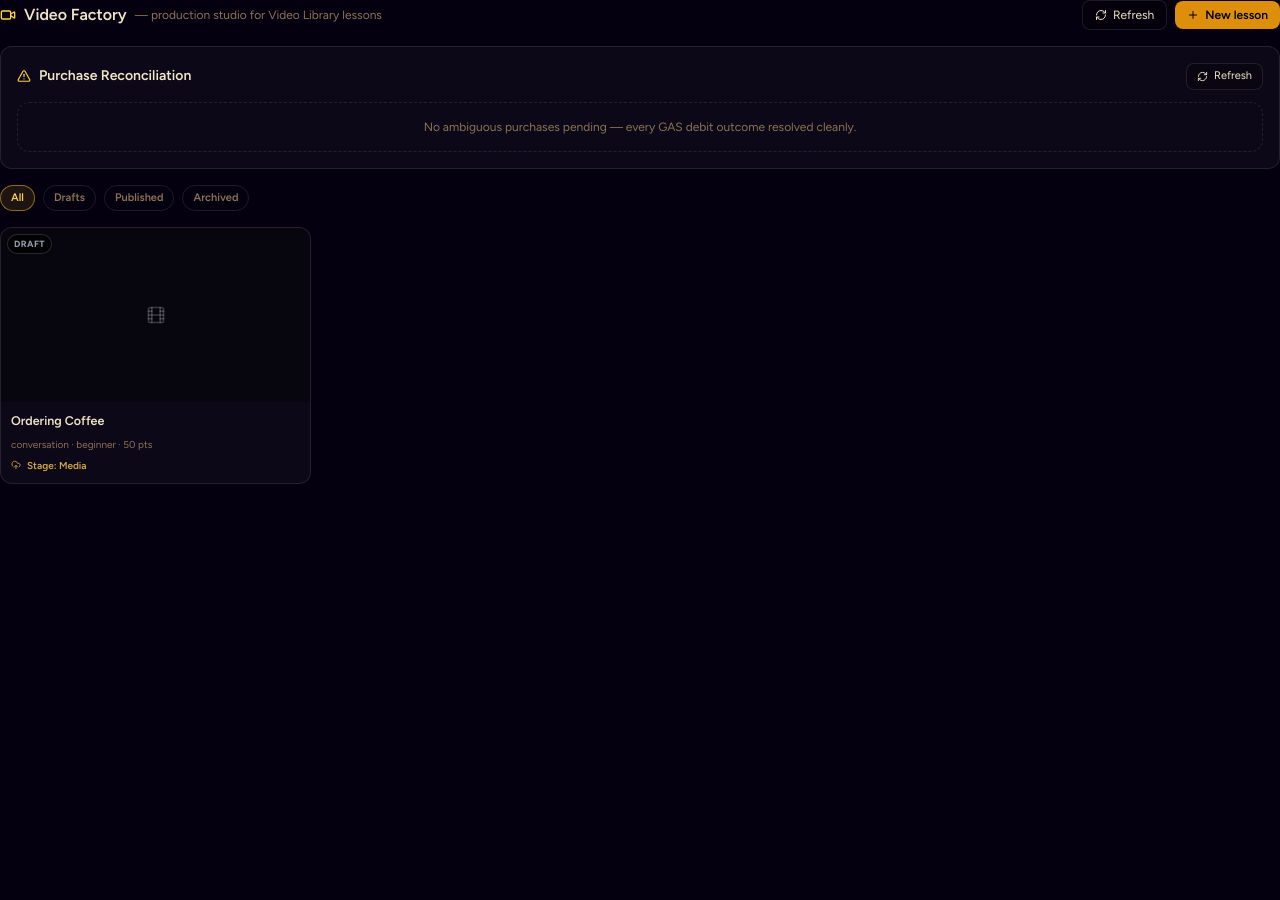
the Voice Production stage appears but shows an honest disabled state when visible but not enabled
Click the button with test id "video-factory-lesson-vid_1" at point(156, 355), box [0,227,311,484]
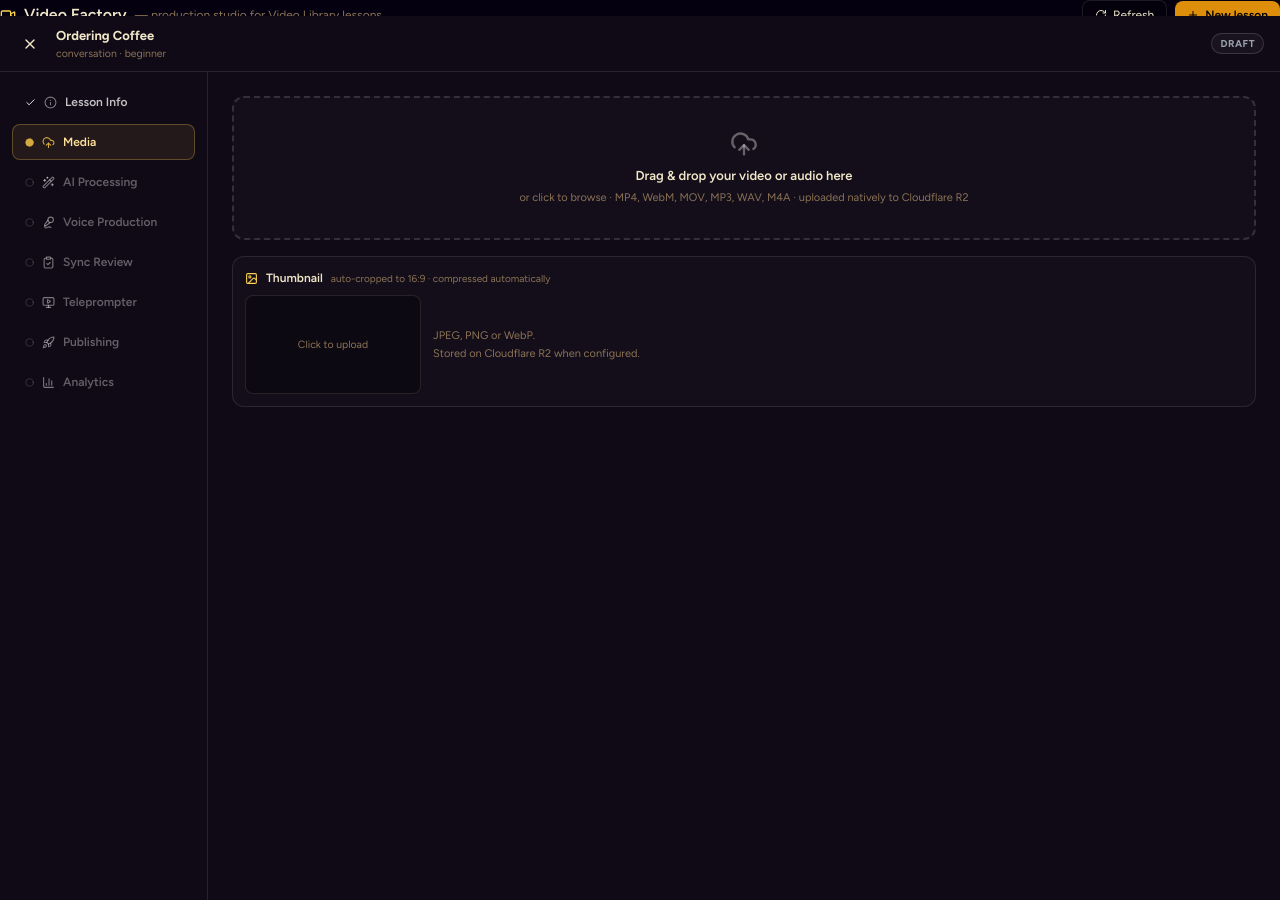
Expected: the element with test id "production-studio" is shown
Click the button with test id "production-stage-voice" at point(104, 222), box [12,204,195,240]
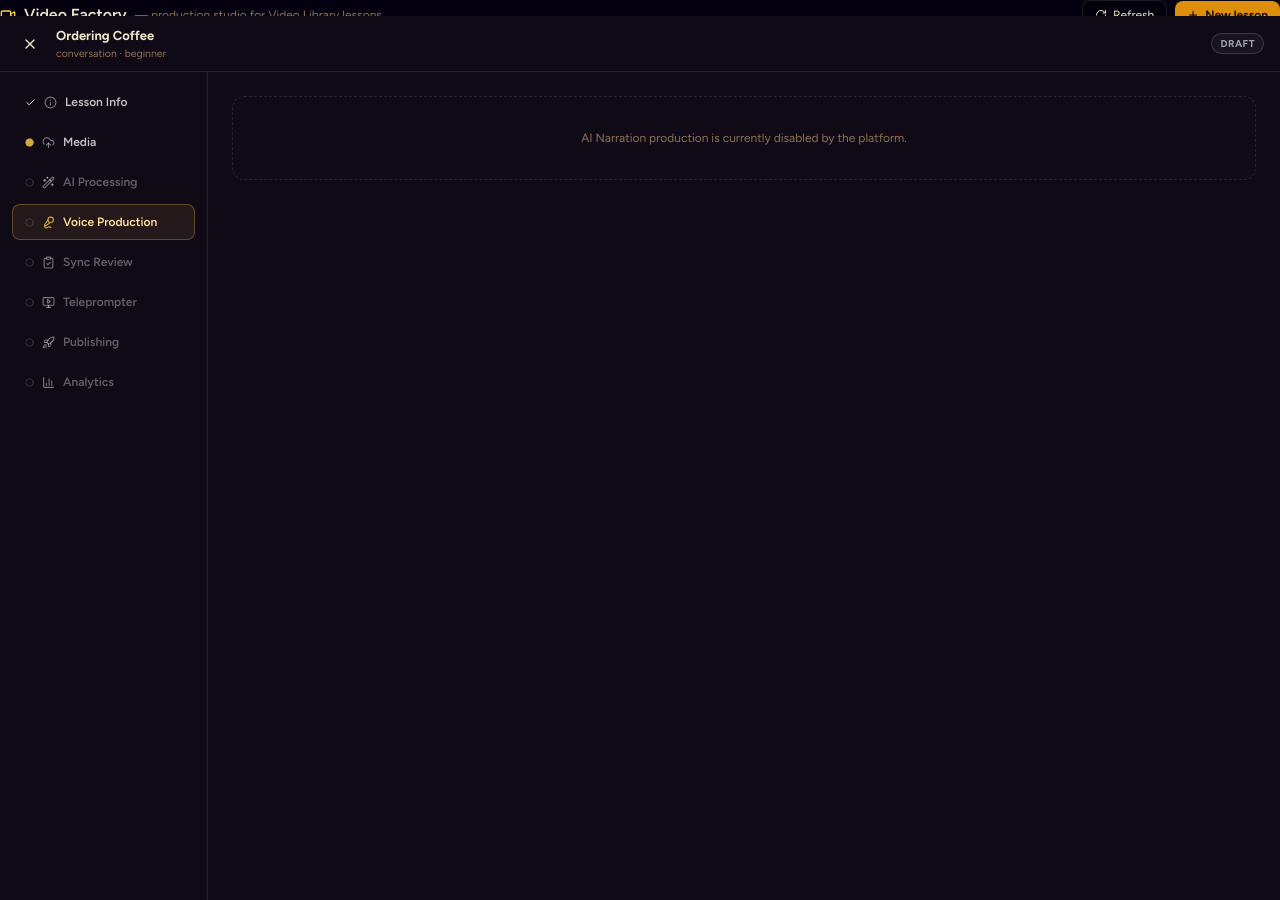
Expected: the text with test id "voice-disabled" is shown, [232,96,1256,180]
